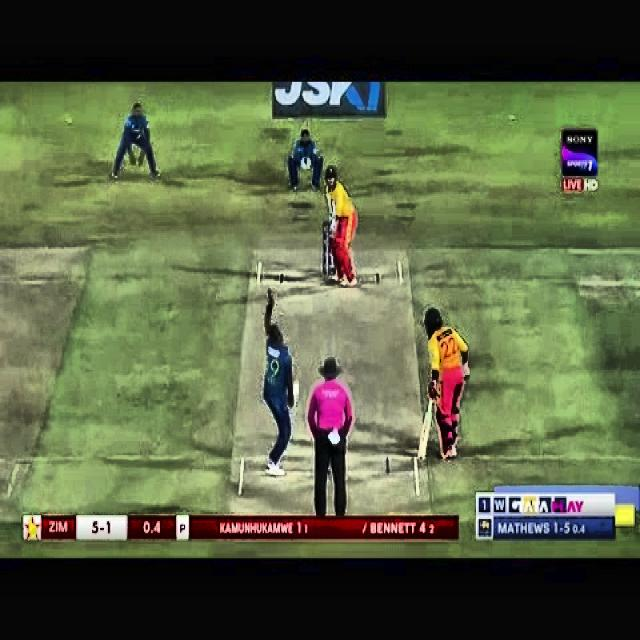Left-stump: (323, 224, 326, 274)
Middle-stump: (328, 234, 331, 274)
Right-stump: (333, 256, 336, 274)
